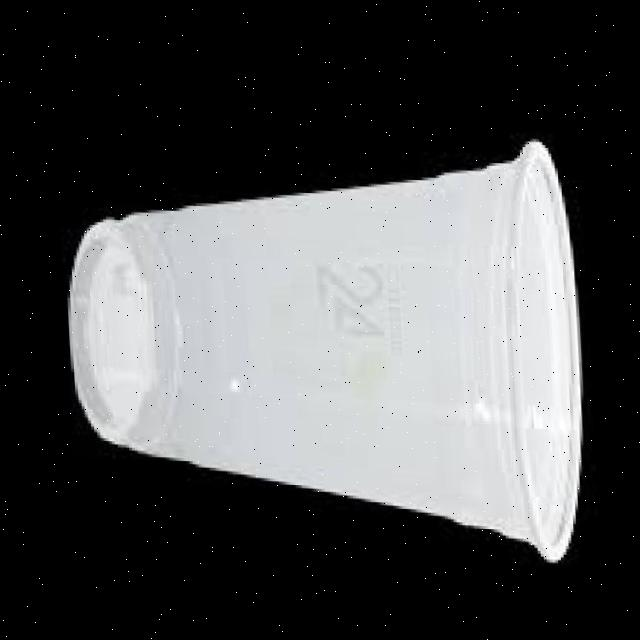cup: (37, 101, 633, 571)
